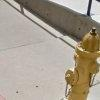Hydrant: (54, 22, 100, 100)
